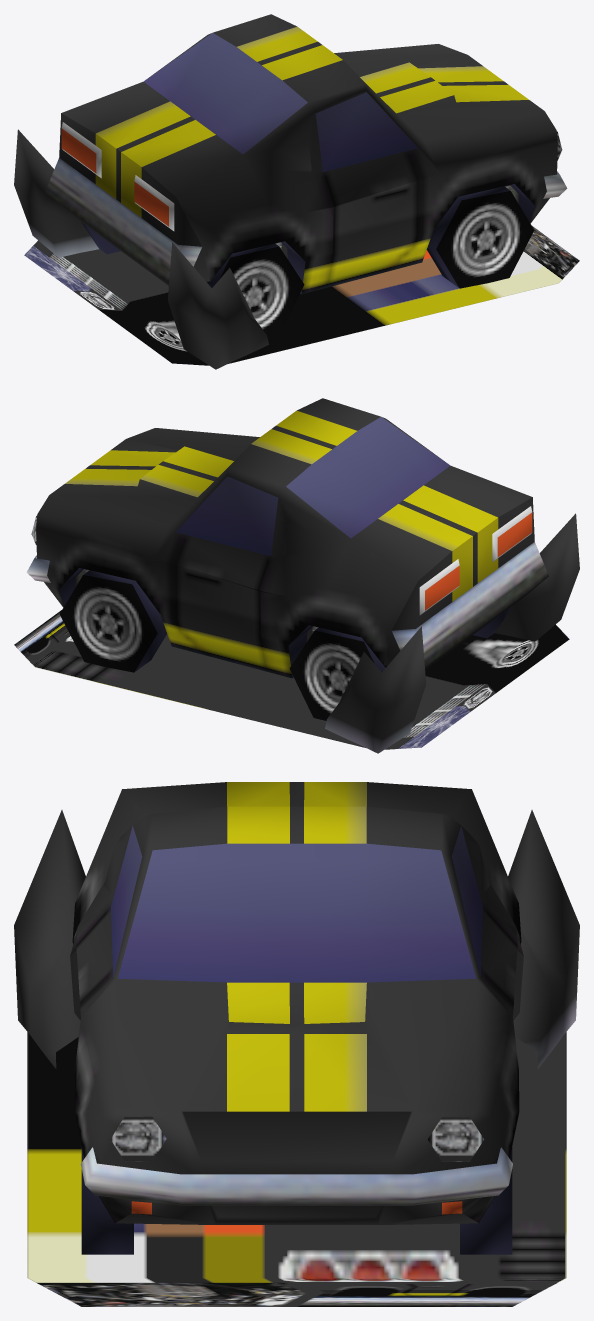
Rendered from RUN3SYSN.ICN.obj.
3 views of the same model, one above another, from view 1: azimuth 30°, elevation 25°; view 2: azimuth 150°, elevation 25°; view 3: azimuth 270°, elevation 25° (orthographic). The views are drawn at different scales.
Bounding box in the file's own units: 4.72 × 2.32 × 3.67.
